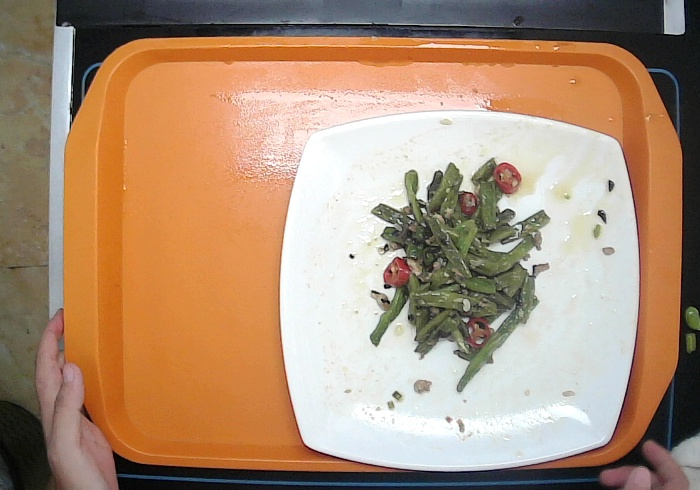ZNLD-Bai_Fang_Pan: (260, 82, 653, 481)
